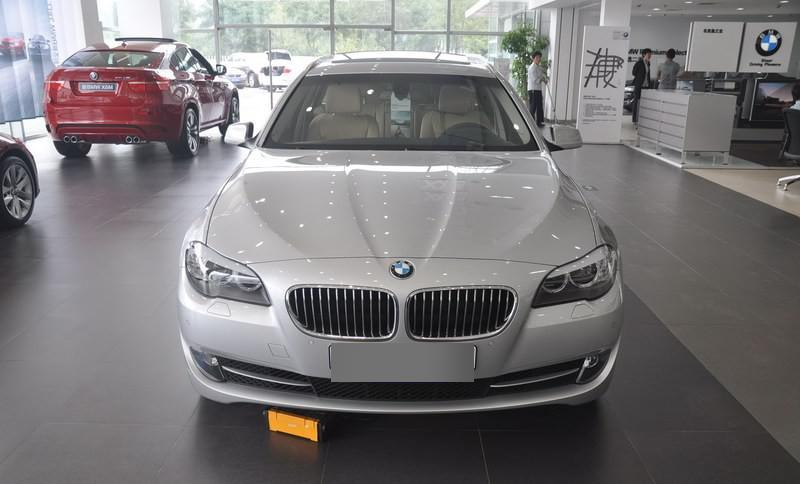Wagon: (175, 49, 626, 417)
